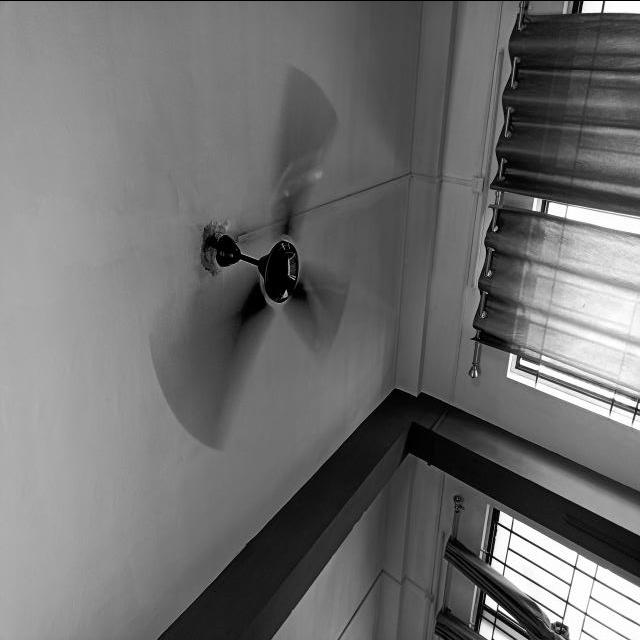fan: (147, 62, 350, 449)
